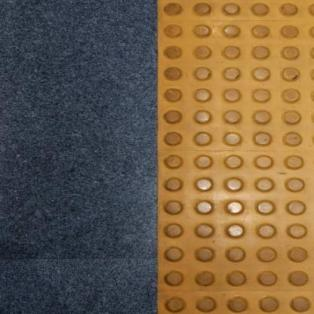Podoctatil: (156, 0, 314, 313)
